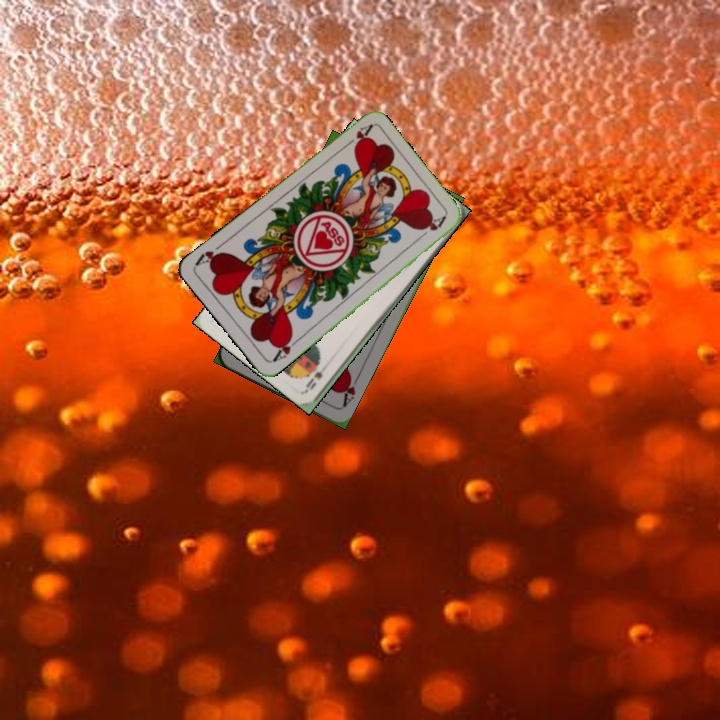HA: (268, 331, 302, 365), (339, 121, 374, 151), (337, 370, 361, 410)
SO: (302, 358, 332, 393)
